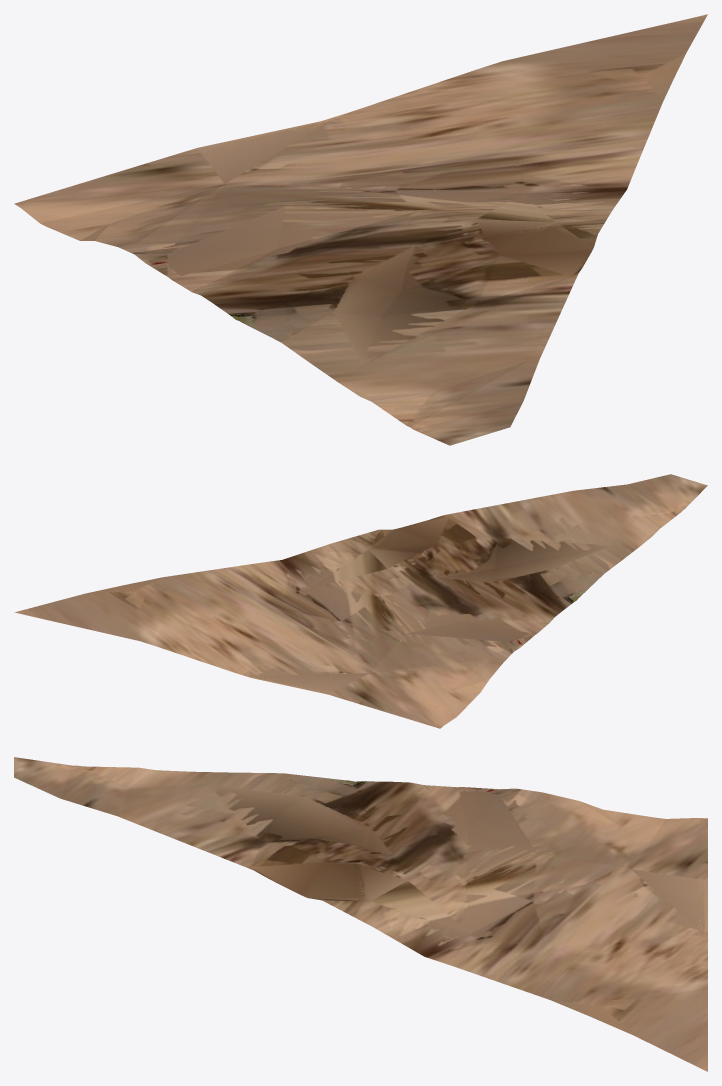
3 renders of one model, top to bottom at view 1: azimuth 30°, elevation 25°; view 2: azimuth 150°, elevation 25°; view 3: azimuth 270°, elevation 25°, orthographic. The views are drawn at different scales.
Size of the model in its own units: 1.92 by 0.2154 by 2.09.
2 materials, 2 textured.
